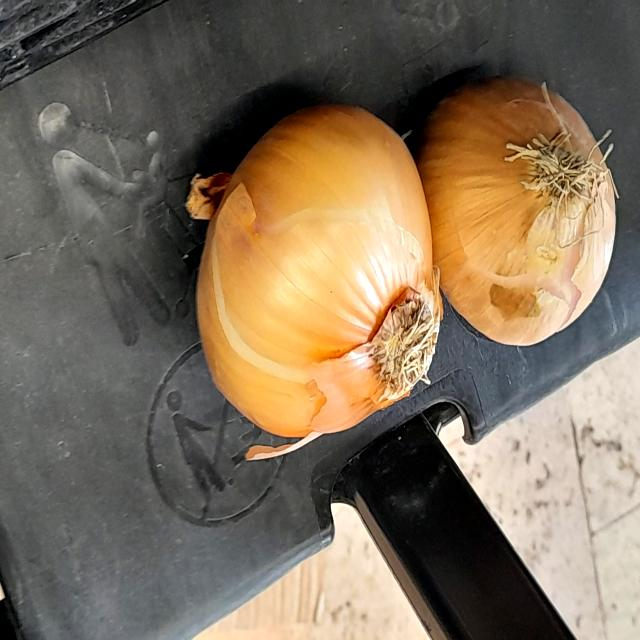onion: (172, 86, 438, 448), (416, 58, 622, 355)
